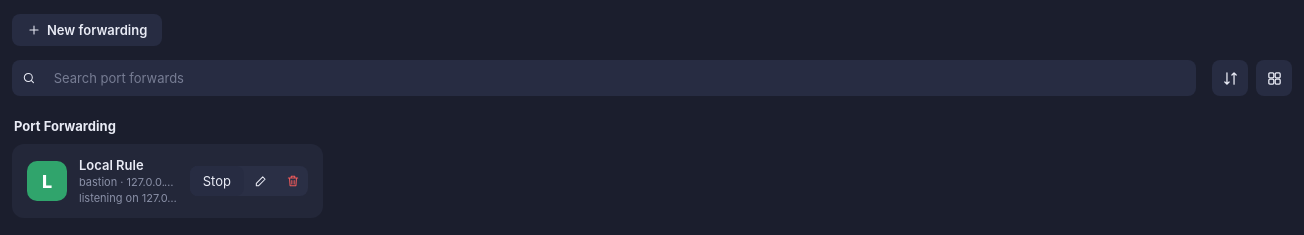
Test: Port Forwarding page › lists rules as cards: letter, name, host, mapping and state; Stop works
Expected: the text with class "tile" reads "L", [42,170,52,192]
Expected: the list item "Local Rule" shows "listening on 127.0.0.1:3306", [12,144,323,218]
Click the button named "Stop Local Rule" at (217, 181), box [190,166,244,196]
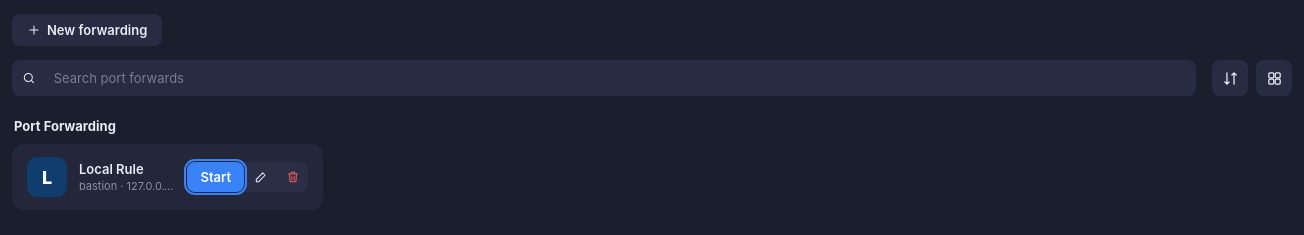
Expected: the list item "Local Rule" shows "stopped", [269,179,311,193]
